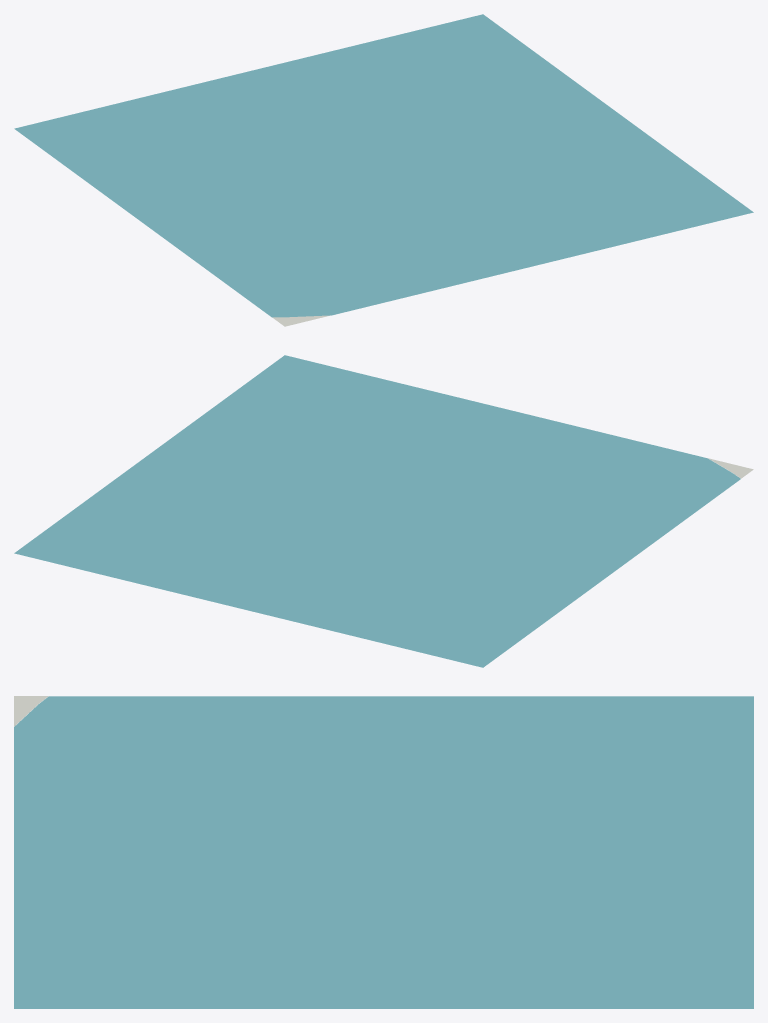
The picture shows the model from 3 angles, top to bottom: view 1: azimuth 30°, elevation 25°; view 2: azimuth 150°, elevation 25°; view 3: azimuth 270°, elevation 25°; orthographic projection. The views are drawn at different scales.
Parts seen in each view (by area): view 1: city; view 2: city; view 3: city.
Part boxes in pixels (x1,y1,x2,y2): city: (14, 14, 753, 326); city: (14, 355, 753, 667); city: (14, 696, 753, 1008).
Bounding box in the file's own units: 500 × 0.18 × 500.
